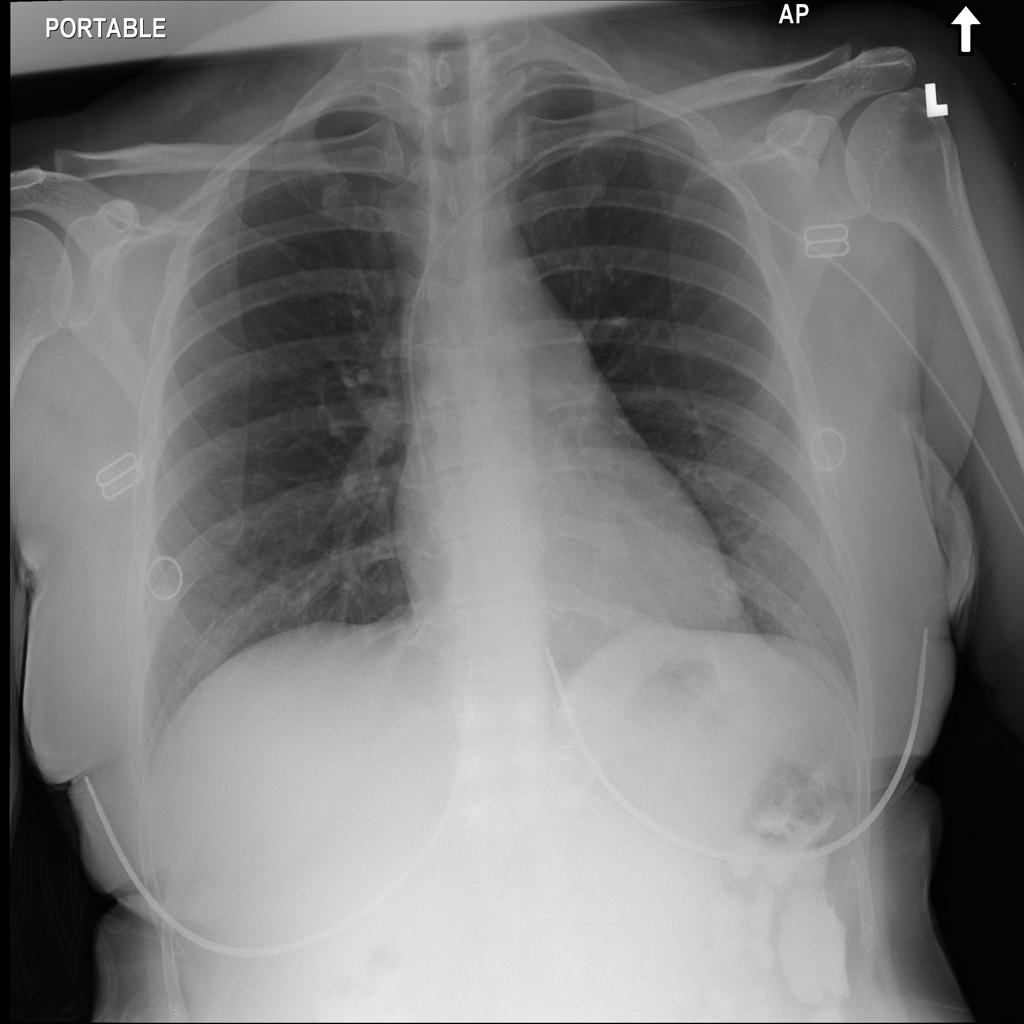nodule: (695, 559, 762, 631)
